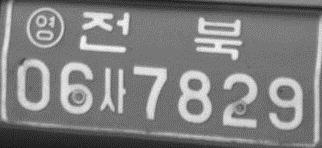0: (16, 55, 51, 111)
2: (221, 70, 258, 130)
6: (59, 61, 93, 116)
7: (132, 65, 167, 121)
8: (176, 69, 212, 124)
9: (267, 75, 304, 131)
사: (100, 67, 127, 114)
영: (25, 5, 65, 50)
전북_D: (78, 9, 244, 60)
